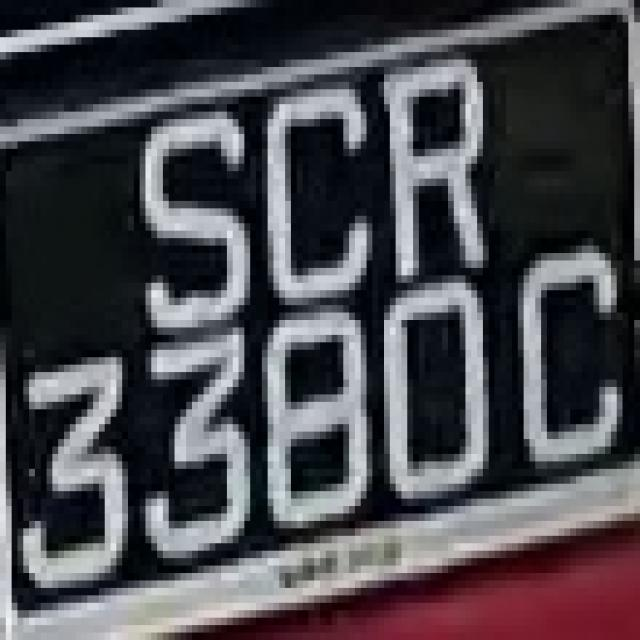0: (367, 283, 506, 513)
3: (6, 327, 134, 603), (151, 320, 250, 558)
8: (256, 305, 384, 528)
C: (501, 223, 628, 491), (250, 52, 378, 313)
R: (366, 30, 494, 275)
S: (116, 52, 256, 365)
